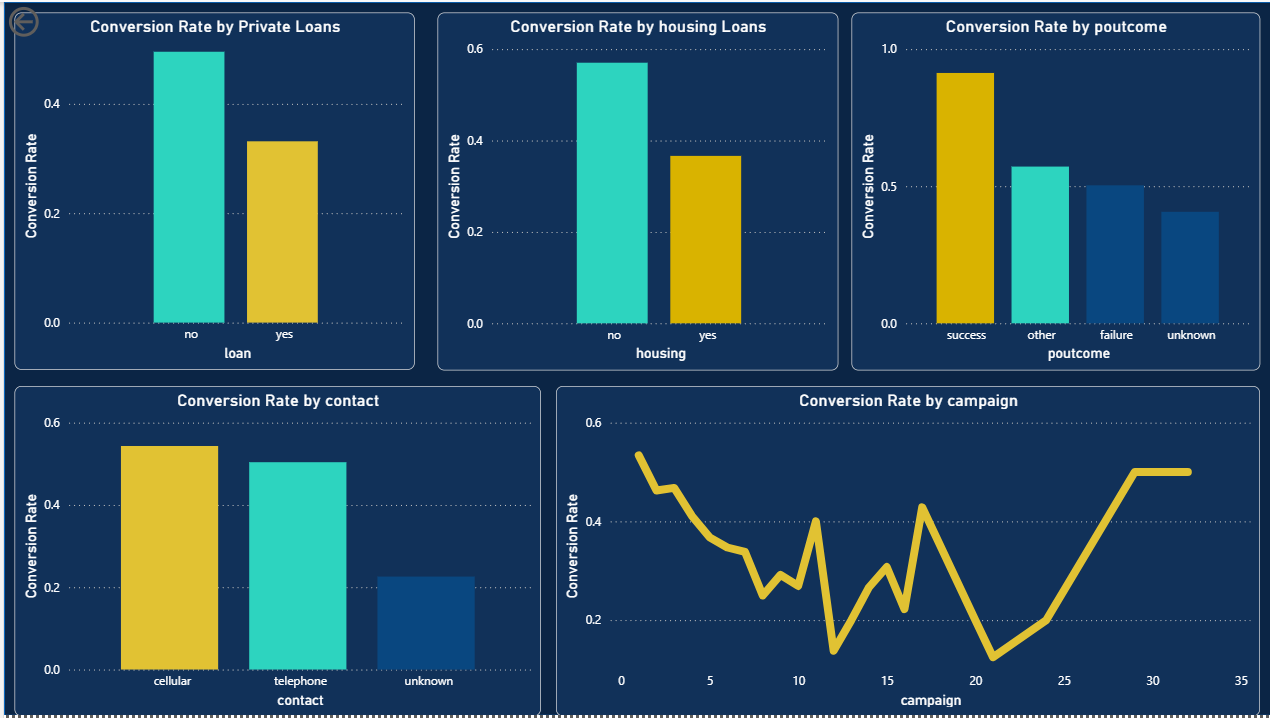

What the dashboard file says about the page in this screenshot:
{"tool":"powerbi","page":{"name":"Financial Profile and Contact Strategy","canvas":[1280,720],"ordinal":1},"visuals":[{"type":"shape","box":[0,0,1279.2,720.6],"z":0},{"type":"columnChart","title":"Conversion Rate by Private Loans","fields":{"Y":["bank_marketing bank.Conversion Rate"],"Category":["bank_marketing bank.loan"]},"box":[10.6,10.6,404.3,360.4],"z":1000},{"type":"columnChart","title":"Conversion Rate by  housing Loans","fields":{"Y":["bank_marketing bank.Conversion Rate"],"Category":["bank_marketing bank.housing"]},"box":[437.2,11.3,404.8,361.1],"z":2000},{"type":"columnChart","fields":{"Y":["bank_marketing bank.Conversion Rate"],"Category":["bank_marketing bank.poutcome"]},"box":[855,11.3,412.9,361.1],"z":3000},{"type":"actionButton","box":[0,0,100,40],"z":4000},{"type":"columnChart","fields":{"Y":["bank_marketing bank.Conversion Rate"],"Category":["bank_marketing bank.contact"]},"box":[11.3,387,531.1,333.6],"z":5000},{"type":"lineChart","fields":{"Y":["bank_marketing bank.Conversion Rate"],"Category":["bank_marketing bank.campaign"]},"box":[557,387,710.8,333.6],"z":6000}]}

Visuals, with their boxes in screenshot pixels (x1, y1, x2, y2), scaled from the page's 1280x720 canvas onto the 1270x718 screenshot:
shape: locate(0, 0, 1269, 717)
"Conversion Rate by Private Loans" columnChart: locate(11, 11, 412, 370)
"Conversion Rate by  housing Loans" columnChart: locate(434, 11, 835, 371)
columnChart - bank_marketing bank.Conversion Rate x bank_marketing bank.poutcome: locate(848, 11, 1258, 371)
actionButton: locate(0, 0, 99, 40)
columnChart - bank_marketing bank.Conversion Rate x bank_marketing bank.contact: locate(11, 386, 538, 717)
lineChart - bank_marketing bank.Conversion Rate x bank_marketing bank.campaign: locate(553, 386, 1258, 717)
